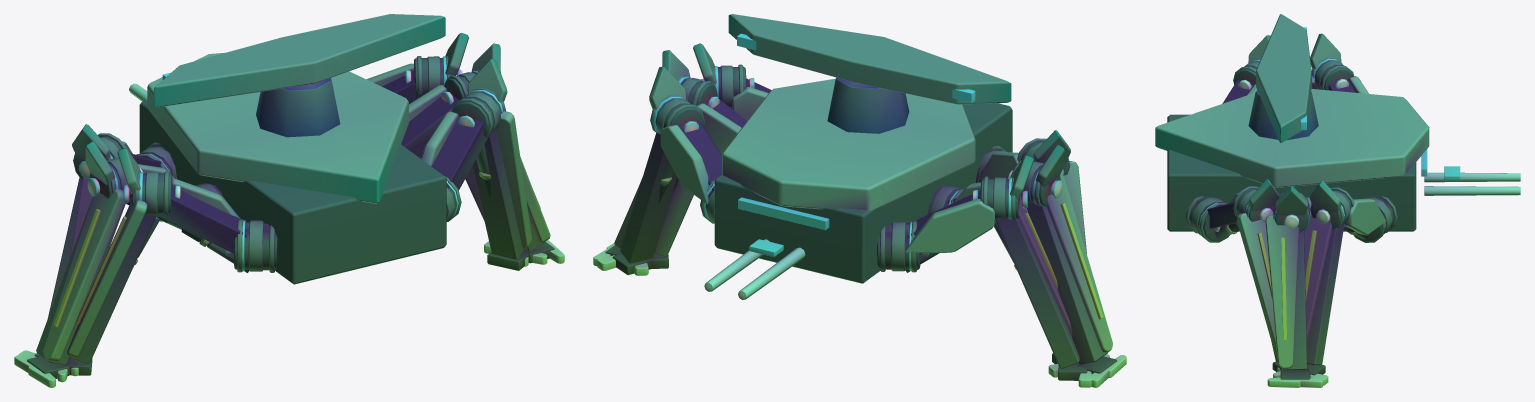
Rendered from overseer.glb.
The picture shows the model from 3 angles, left to right: view 1: azimuth 30°, elevation 25°; view 2: azimuth 150°, elevation 25°; view 3: azimuth 270°, elevation 25°; orthographic projection. The views are drawn at different scales.
Parts seen in each view (by area): view 1: Body__armor, Body__dark, Spinner_Y_0__armor_sub, Hip_5_Knee__gunmetal, Hip_2_Knee__armor, Body__gunmetal, Hip_4__dark, Hip_4_Knee__gunmetal, Hip_4_Knee__armor, Hip_5__dark, Hip_5_Knee__armor, Hip_2_Knee__gunmetal (+24 smaller); view 2: Body__armor, Body__dark, Spinner_Y_0__armor_sub, Hip_0_Knee__gunmetal, Hip_1_Knee__gunmetal, Hip_2_Knee__gunmetal, Body__gunmetal, Hip_0__armor, Hip_2_Knee__armor, Hip_1__armor, Hip_5_Knee__gunmetal, Gun__chrome (+24 smaller); view 3: Body__armor, Body__dark, Spinner_Y_0__armor_sub, Hip_3_Knee__armor, Hip_1_Knee__gunmetal, Hip_5_Knee__armor, Gun__chrome, Hip_1_Knee__armor, Hip_3_Knee__gunmetal, Body__gunmetal, Hip_1__armor, Hip_5__dark (+15 smaller).
Part boxes in pixels (x1,y1,x2,y2): Body__armor: (147,52,408,203); Body__dark: (139,100,446,284); Spinner_Y_0__armor_sub: (154,14,445,107); Hip_5_Knee__gunmetal: (452,88,523,259); Hip_2_Knee__armor: (43,189,124,361); Body__gunmetal: (256,78,340,137); Hip_4__dark: (156,186,277,272); Hip_4_Knee__gunmetal: (70,171,169,363); Hip_4_Knee__armor: (67,200,147,358); Hip_5__dark: (431,116,488,214); Hip_5_Knee__armor: (496,111,531,248); Hip_2_Knee__gunmetal: (36,158,131,365); Body__armor: (722,78,975,210); Body__dark: (714,103,1012,283); Spinner_Y_0__armor_sub: (728,14,1011,104); Hip_0_Knee__gunmetal: (983,176,1079,368); Hip_1_Knee__gunmetal: (620,95,704,263); Hip_2_Knee__gunmetal: (1011,160,1107,364); Body__gunmetal: (827,77,909,133); Hip_0__armor: (905,198,994,253); Hip_2_Knee__armor: (1046,174,1112,352); Hip_1__armor: (660,124,708,204); Hip_5_Knee__gunmetal: (654,64,743,256); Gun__chrome: (704,239,805,300); Body__armor: (1155,89,1429,187); Body__dark: (1167,114,1416,231); Spinner_Y_0__armor_sub: (1256,14,1311,143); Hip_3_Knee__armor: (1265,214,1299,368); Hip_1_Knee__gunmetal: (1306,187,1354,365); Hip_5_Knee__armor: (1236,213,1277,358); Gun__chrome: (1424,172,1520,195); Hip_1_Knee__armor: (1304,206,1331,343); Hip_3_Knee__gunmetal: (1273,193,1310,370); Body__gunmetal: (1248,90,1318,139); Hip_1__armor: (1344,198,1385,235); Hip_5__dark: (1189,197,1237,241).
Bounding box in the file's own units: 2.41 × 1.19 × 1.82.
